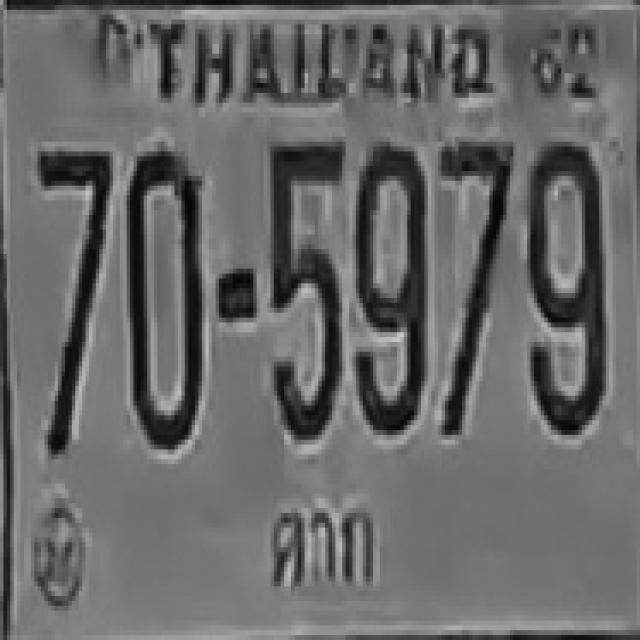Tak: (252, 482, 420, 615)
